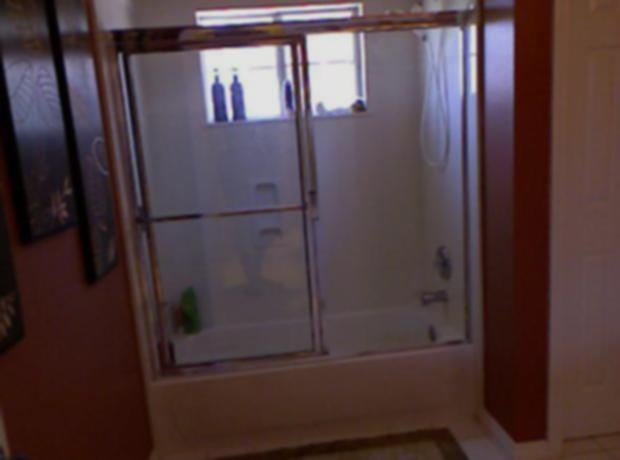Ducha: (158, 6, 476, 412)
